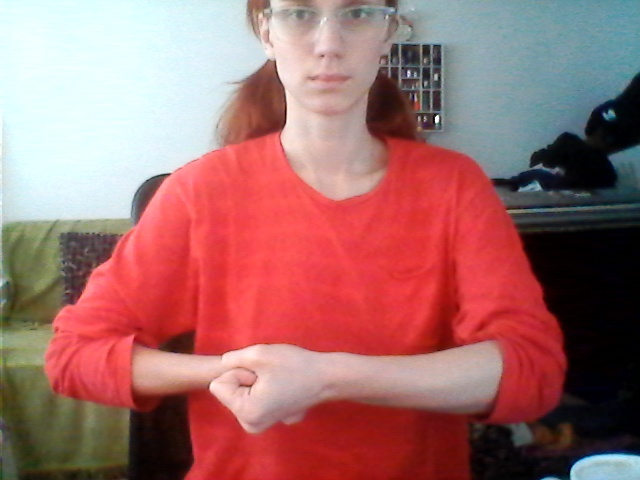hasic: (187, 319, 411, 454)
